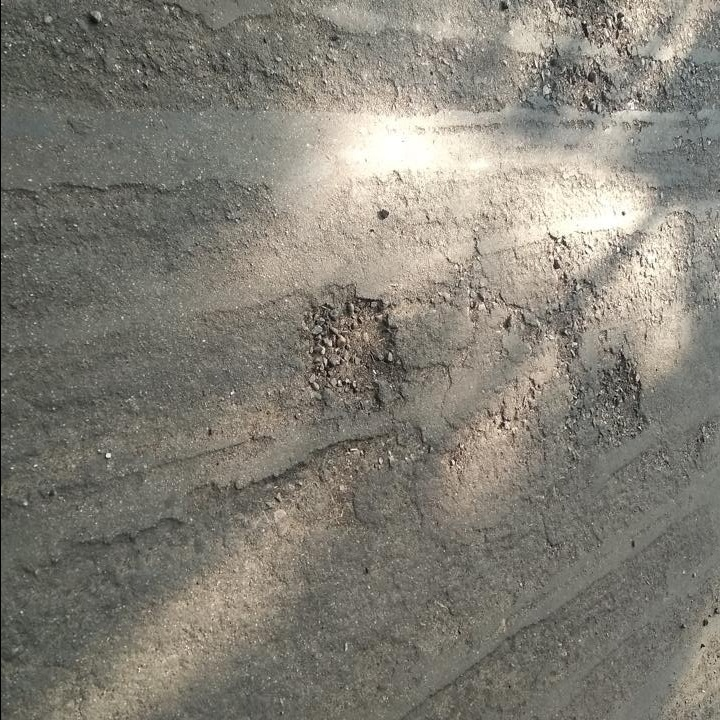pothole: (299, 282, 408, 417), (587, 347, 648, 449)
